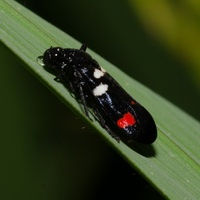insect: (39, 46, 156, 143)
